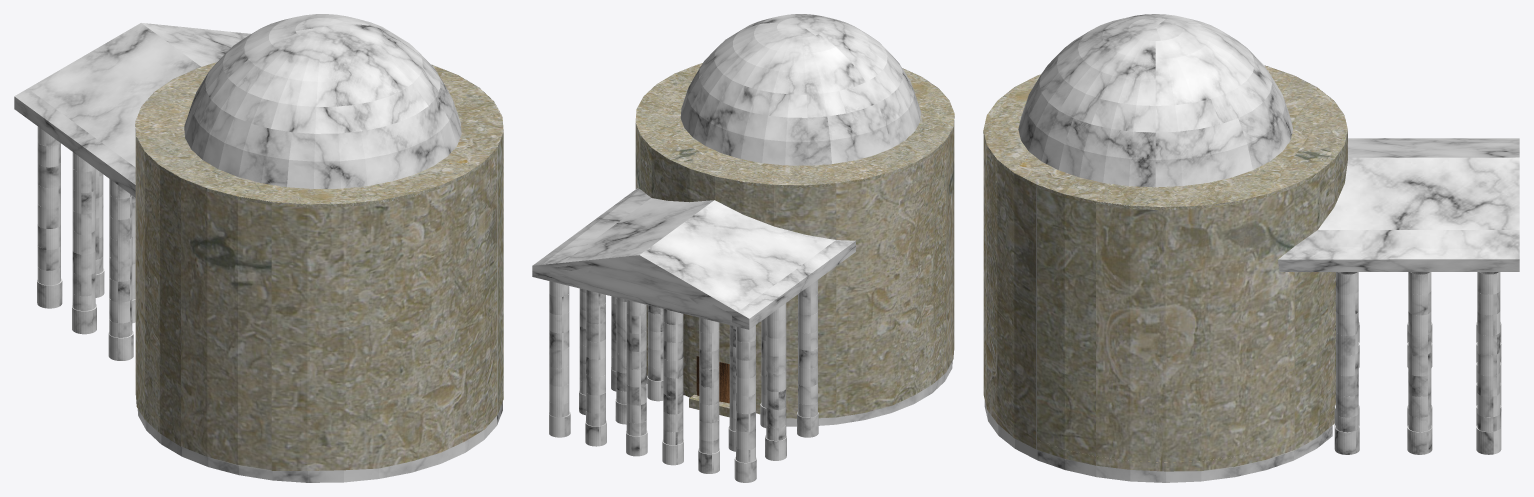
Rendered from SenateBuildingPartsSplit.fbx.
3 views of the same model, side by side, from view 1: azimuth 30°, elevation 25°; view 2: azimuth 150°, elevation 25°; view 3: azimuth 270°, elevation 25° (orthographic). The views are drawn at different scales.
Parts seen in each view (by area): view 1: Room, Dome, Roof, RoofFlat, Pillars, Pillars.001, Pillars.002, SeatingBalcony; view 2: Room, Dome, Roof, Pillars, RoofFlat, Pillars.001, Pillars.002, SeatingBalcony; view 3: Room, Dome, Roof, RoofFlat, Pillars, Pillars.001, Pillars.002, SeatingBalcony.
Part boxes in pixels (<box>): Room: <box>135,63,503,470</box>; Dome: <box>184,14,461,188</box>; Roof: <box>14,23,250,197</box>; RoofFlat: <box>135,62,503,207</box>; Pillars: <box>37,126,104,308</box>; Pillars.001: <box>72,152,135,334</box>; Pillars.002: <box>108,179,133,360</box>; SeatingBalcony: <box>137,401,502,482</box>; Room: <box>635,63,954,418</box>; Dome: <box>680,14,920,165</box>; Roof: <box>532,188,855,329</box>; Pillars: <box>549,281,756,482</box>; RoofFlat: <box>635,63,954,188</box>; Pillars.001: <box>579,288,786,460</box>; Pillars.002: <box>611,280,818,437</box>; SeatingBalcony: <box>646,361,952,426</box>; Room: <box>983,65,1347,471</box>; Dome: <box>1018,14,1292,187</box>; Roof: <box>1278,138,1519,271</box>; RoofFlat: <box>983,65,1347,210</box>; Pillars: <box>1476,272,1501,454</box>; Pillars.001: <box>1407,272,1432,454</box>; Pillars.002: <box>1334,272,1359,454</box>; SeatingBalcony: <box>984,400,1332,482</box>.
Size of the model in its own units: 1194 by 1383 by 1755.
